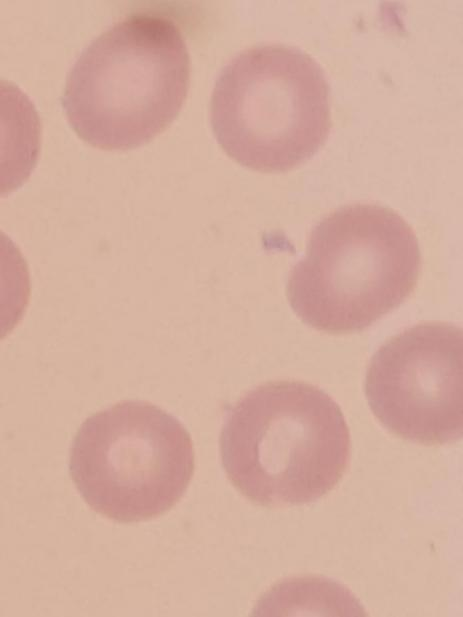Uninfected: (287, 201, 422, 331), (62, 21, 189, 156), (225, 376, 355, 505), (68, 402, 195, 523), (212, 44, 329, 174), (367, 322, 463, 435)
